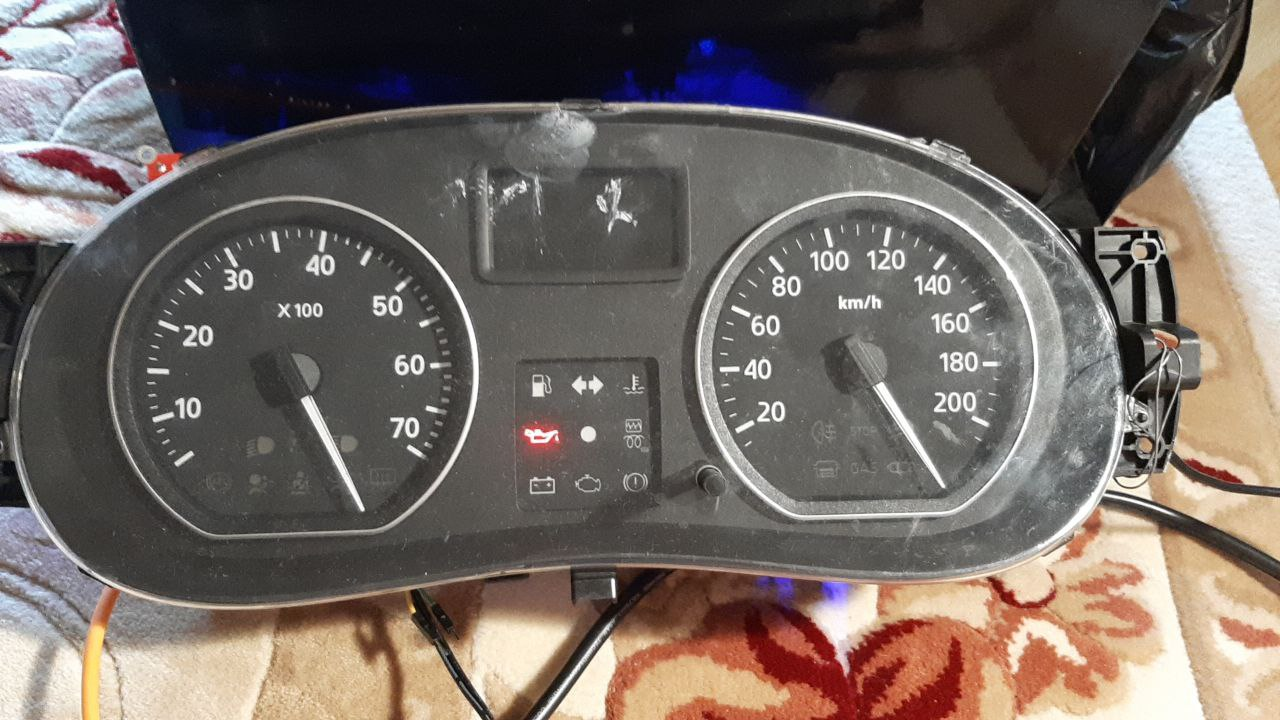oil: (517, 420, 563, 448)
